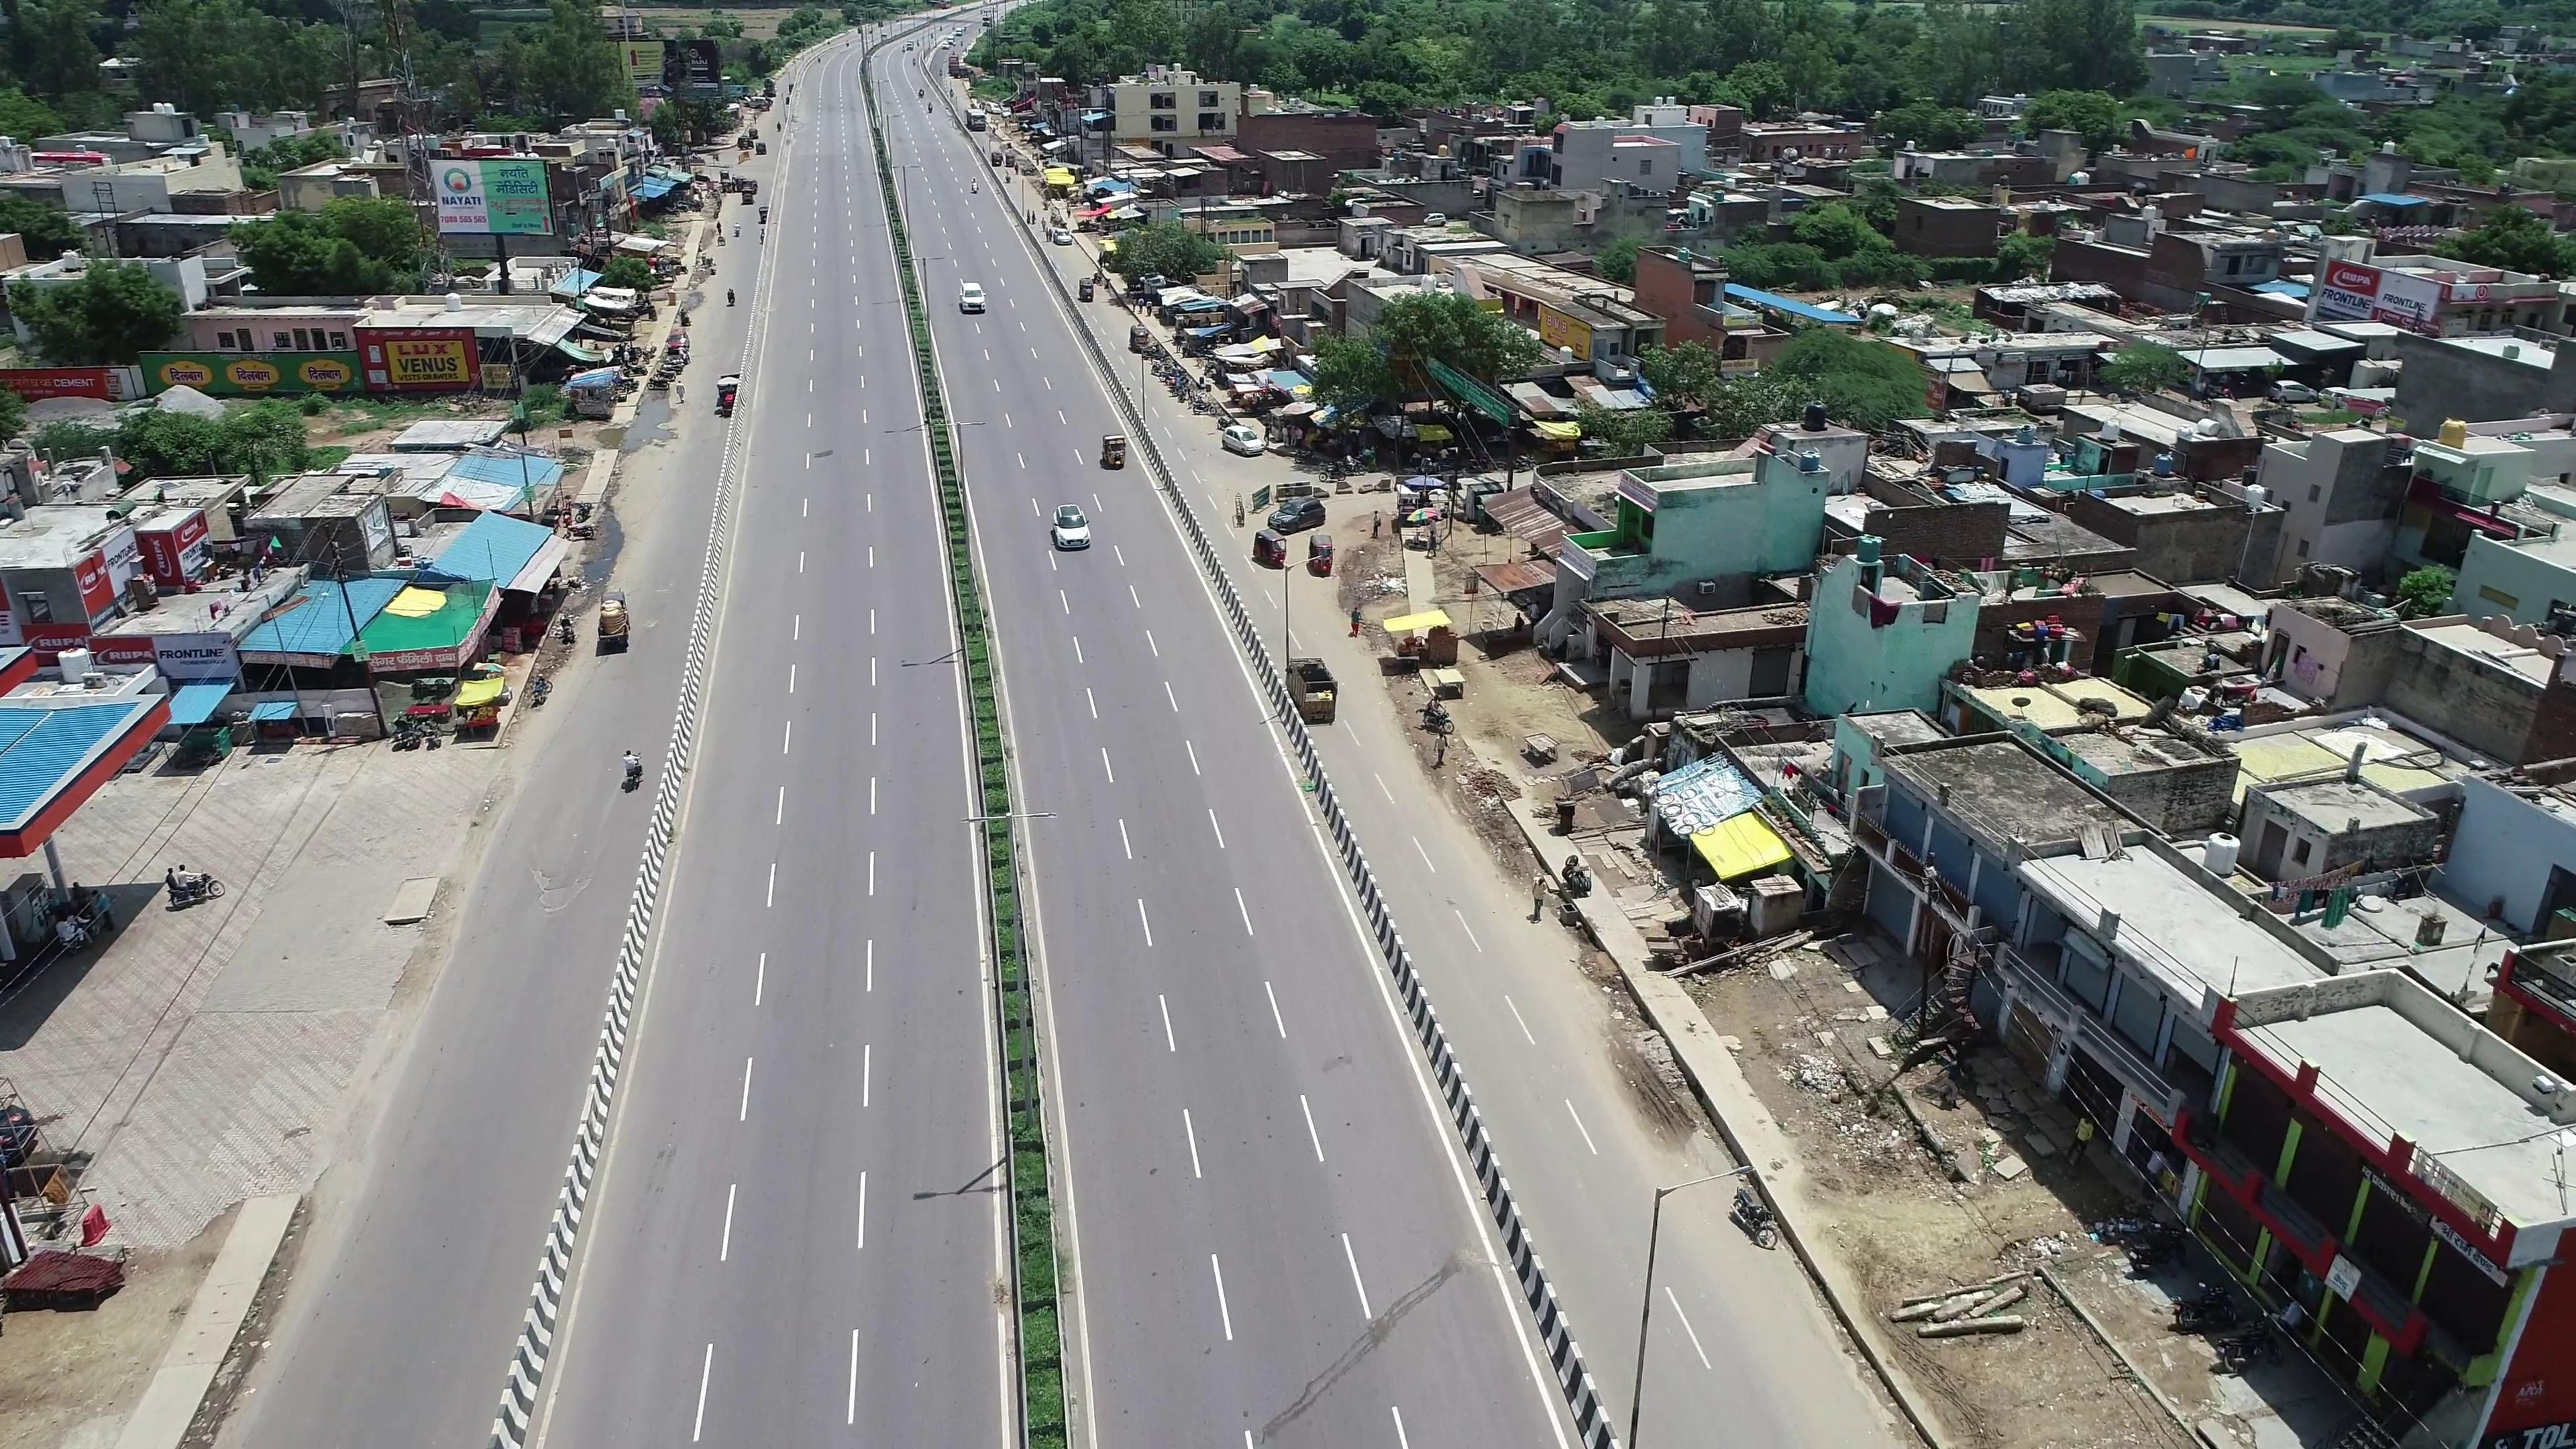Potholes: (1256, 1270, 1451, 1433), (522, 856, 600, 918)
